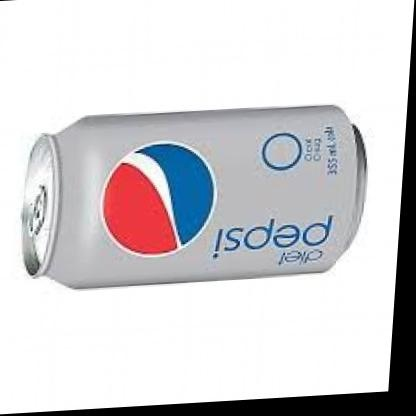trash: (22, 105, 365, 287)
